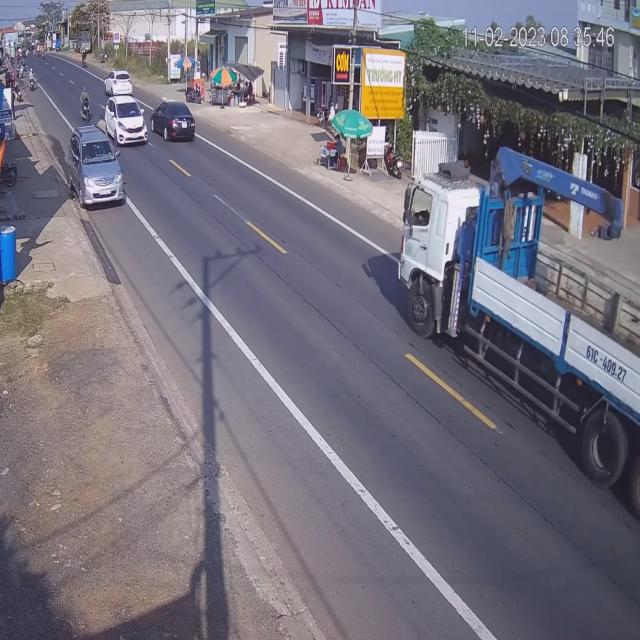car: (69, 128, 125, 210), (105, 94, 148, 147), (154, 99, 198, 145), (104, 70, 135, 104)
motorbike: (81, 86, 91, 121)
truck: (398, 144, 640, 516)
